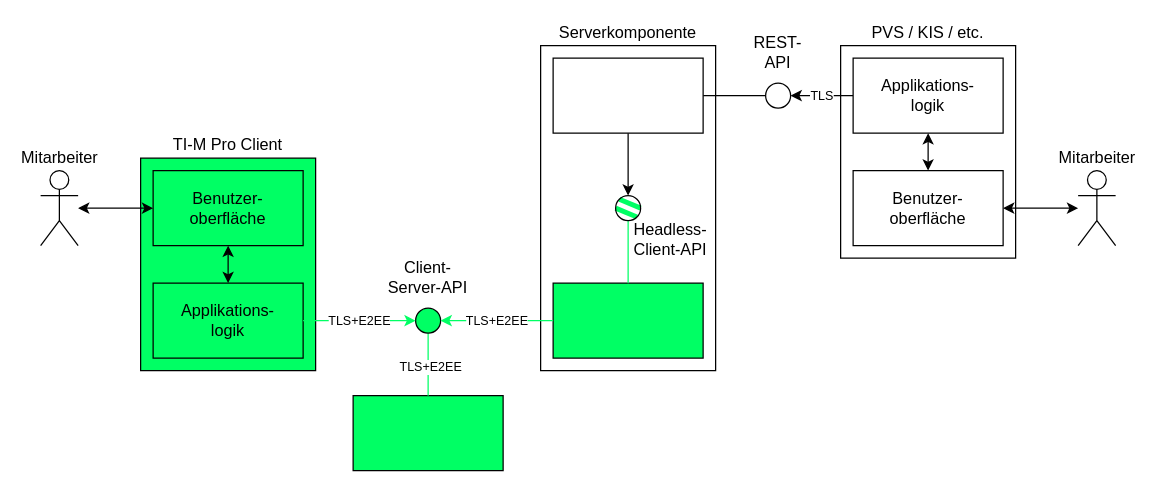
The diagram is 1156 pixels wide and 493 high, and some of its shapes have lost their labels. The shapes that lost their labels are listed below. From the top down, each one's centre as x and y in pixels, then its label:
At (627,95): "Server- logik".
At (627,320): "Headless Client".
At (427,432): "TI-M Pro Fachdienst".
